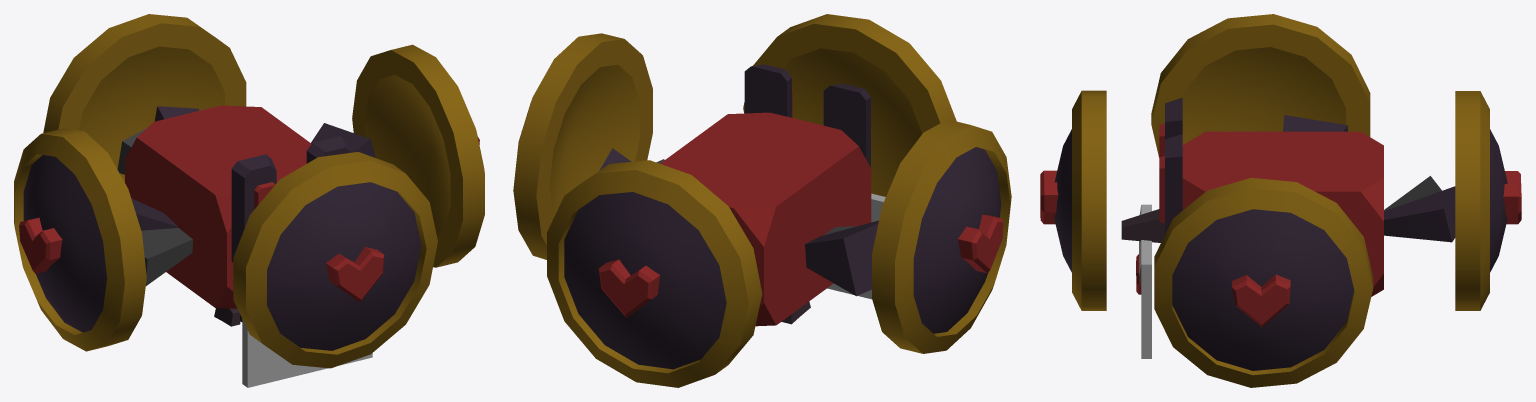
Rendered from enemy_bird_03.fbx.
3 views of the same model, side by side, from view 1: azimuth 30°, elevation 25°; view 2: azimuth 150°, elevation 25°; view 3: azimuth 270°, elevation 25° (orthographic). The views are drawn at different scales.
Parts seen in each view (by area): view 1: enemy_bird_invulnerable_03_mesh, enemy_bird_03_mesh; view 2: enemy_bird_invulnerable_03_mesh, enemy_bird_03_mesh; view 3: enemy_bird_invulnerable_03_mesh, enemy_bird_03_mesh.
Part boxes in pixels (x1=…): enemy_bird_invulnerable_03_mesh: x1=14, y1=14, x2=484, y2=387; enemy_bird_03_mesh: x1=117, y1=105, x2=375, y2=387; enemy_bird_invulnerable_03_mesh: x1=513, y1=14, x2=1011, y2=387; enemy_bird_03_mesh: x1=599, y1=64, x2=885, y2=326; enemy_bird_invulnerable_03_mesh: x1=1040, y1=14, x2=1521, y2=387; enemy_bird_03_mesh: x1=1121, y1=98, x2=1455, y2=358.
Bounding box in the file's own units: 1.44 × 0.7299 × 1.4.
